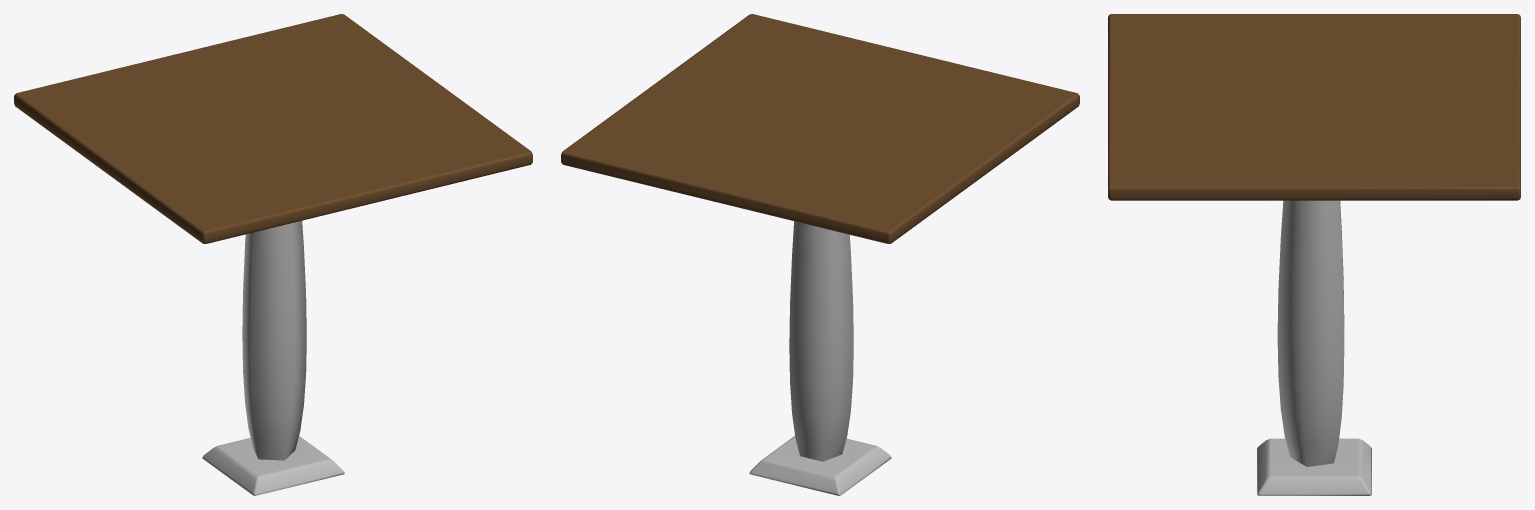
The model's file is Round Table.glb.
3 views of the same model, side by side, from view 1: azimuth 30°, elevation 25°; view 2: azimuth 150°, elevation 25°; view 3: azimuth 270°, elevation 25° (orthographic). The views are drawn at different scales.
Visible parts, largest first — view 1: id0; view 2: id0; view 3: id0.
Part boxes in pixels (x1,y1,x2,y2): id0: (14,14,532,495); id0: (561,14,1079,495); id0: (1108,14,1520,495).
Size of the model in its own units: 0.7957 by 0.792 by 0.7957.
